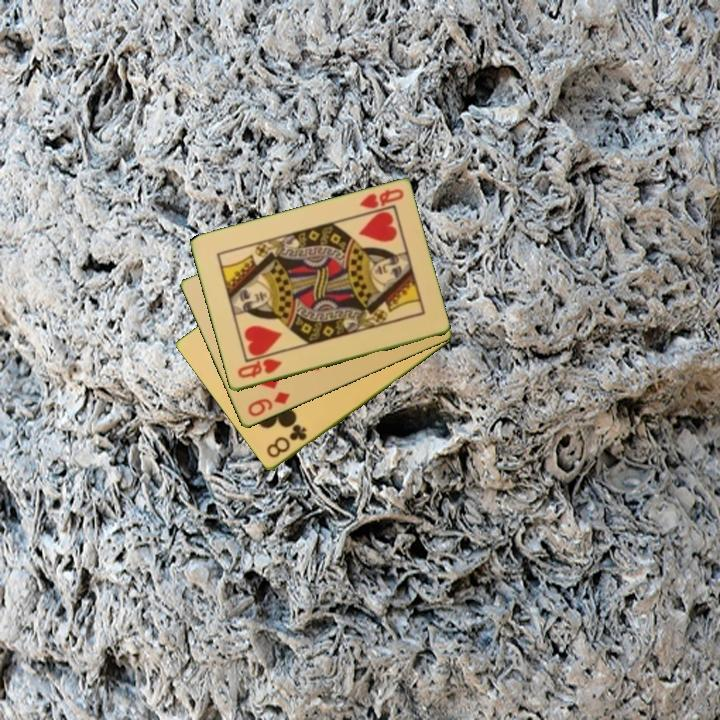8c: (263, 421, 310, 461)
9d: (244, 388, 293, 420)
Qh: (356, 185, 407, 212), (234, 355, 285, 381)
